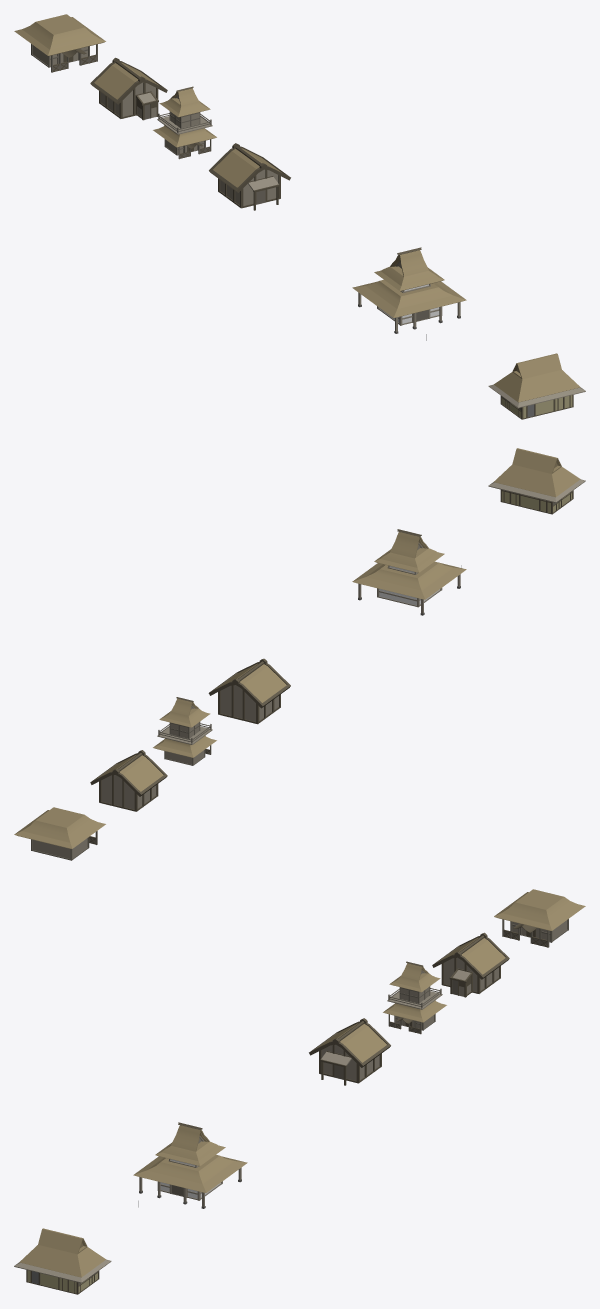
File: FoloorLake_map2.fbx
3 renders of one model, top to bottom at view 1: azimuth 30°, elevation 25°; view 2: azimuth 150°, elevation 25°; view 3: azimuth 330°, elevation 25°, orthographic.
Visible parts, largest first — view 1: House_4, polySurface20, House_5, House_6, House_3, House_1; view 2: House_4, polySurface20, House_5, House_6, House_3, House_1; view 3: House_4, polySurface20, House_5, House_6, House_3, House_1.
Boxes of the visible parts, box(x1,y1,x2,y2) form: House_4: box(352, 247, 466, 333); polySurface20: box(488, 353, 585, 419); House_5: box(209, 143, 290, 210); House_6: box(14, 14, 105, 72); House_3: box(90, 57, 167, 120); House_1: box(153, 86, 216, 159); House_4: box(352, 529, 466, 615); polySurface20: box(488, 448, 585, 514); House_5: box(208, 658, 290, 724); House_6: box(14, 807, 105, 860); House_3: box(90, 750, 167, 811); House_1: box(153, 697, 216, 765); House_4: box(133, 1122, 247, 1208); polySurface20: box(14, 1228, 111, 1294); House_5: box(309, 1018, 390, 1085); House_6: box(494, 889, 585, 947); House_3: box(432, 932, 509, 997); House_1: box(383, 961, 446, 1034).
Bounding box in the file's own units: 1972 × 1600 × 23671.
